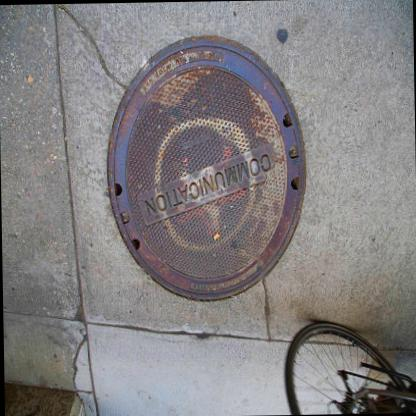manholes: (96, 27, 314, 315)
